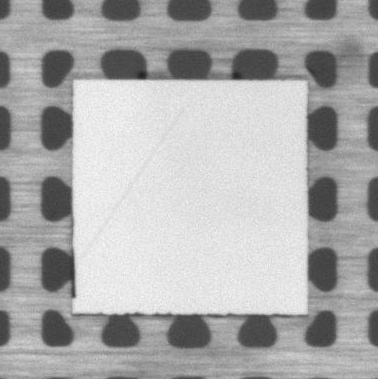DIE_CRACK: (81, 108, 184, 260)
